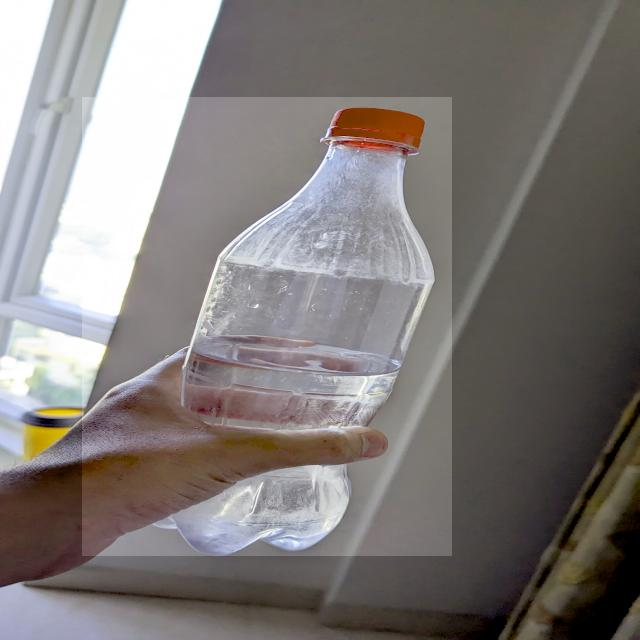half-bottle: (82, 97, 452, 556)
